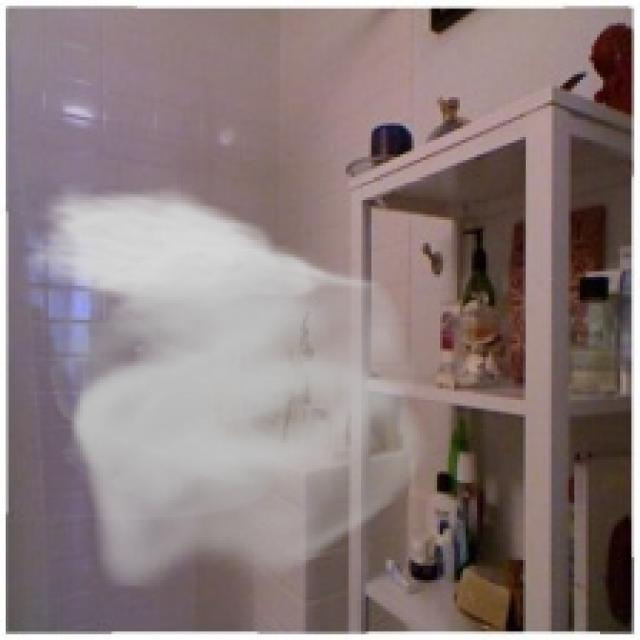Smoke: (22, 182, 438, 588)
